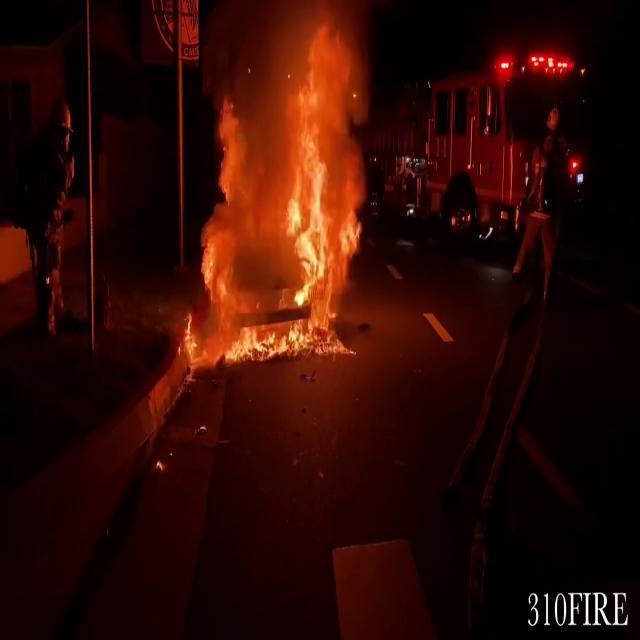Fire: (175, 17, 375, 365)
